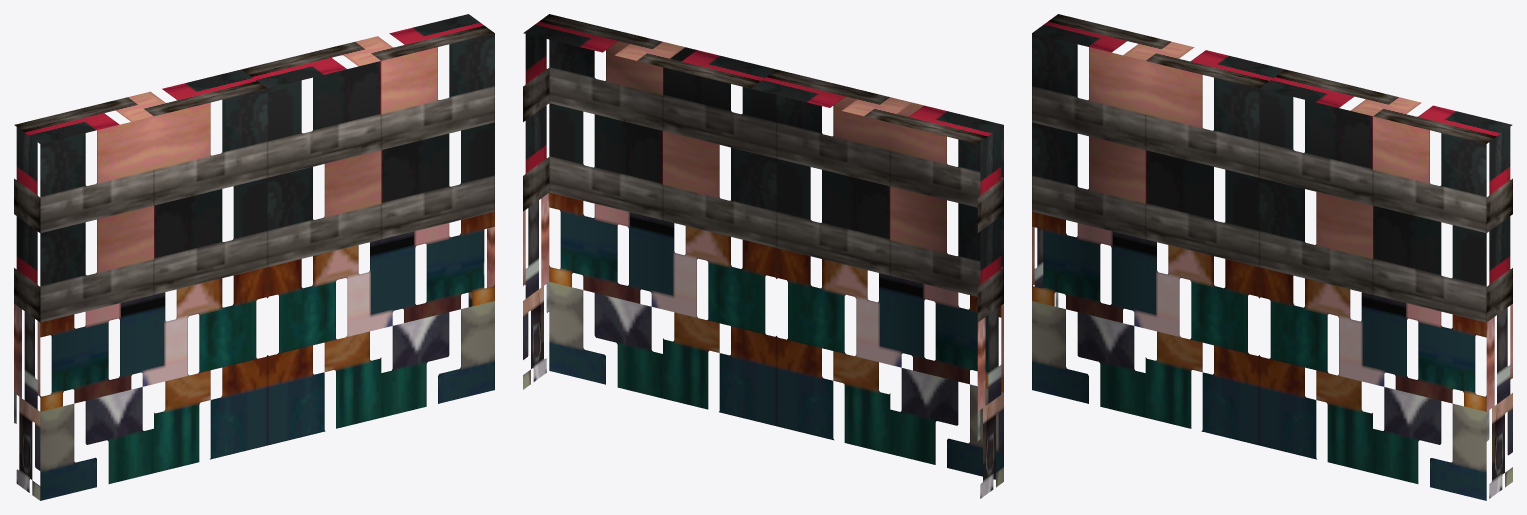
3 views of the same model, side by side, from view 1: azimuth 30°, elevation 25°; view 2: azimuth 150°, elevation 25°; view 3: azimuth 330°, elevation 25° (orthographic).
Visible parts, largest first — view 1: T1L2M002_2; view 2: T1L2M002_2; view 3: T1L2M002_2.
Boxes of the visible parts, bbox=[...] form: T1L2M002_2: bbox=[14, 14, 494, 500]; T1L2M002_2: bbox=[523, 14, 1003, 498]; T1L2M002_2: bbox=[1032, 14, 1512, 500].
Bounding box in the file's own units: 4 × 3 × 0.3994.
